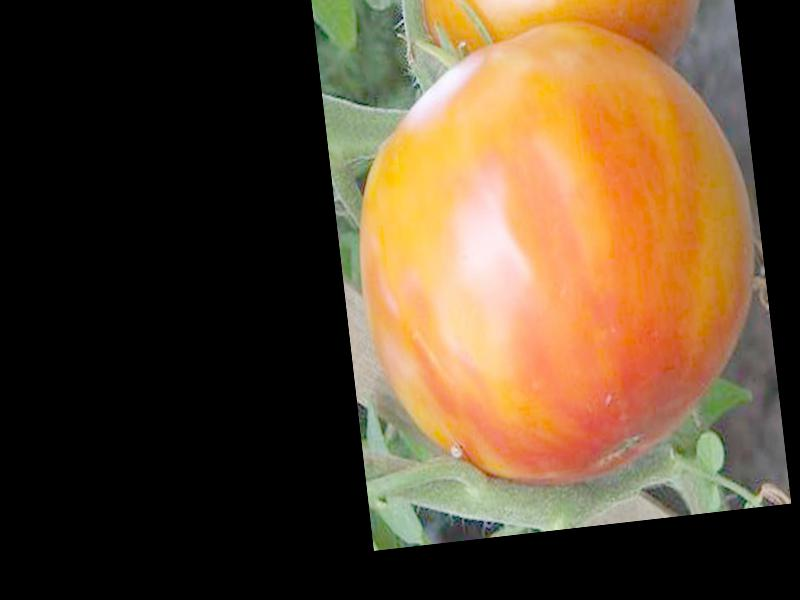Tomato: (336, 9, 777, 501)
